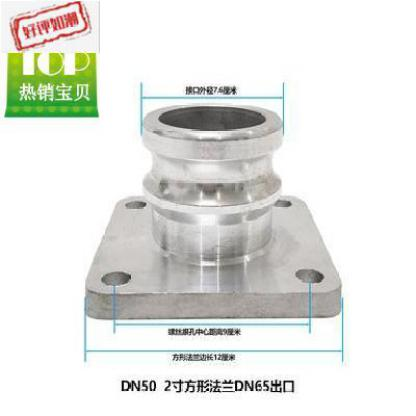FOD: (81, 99, 346, 326)
